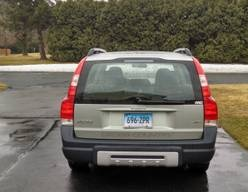volvo: (41, 45, 238, 175)
